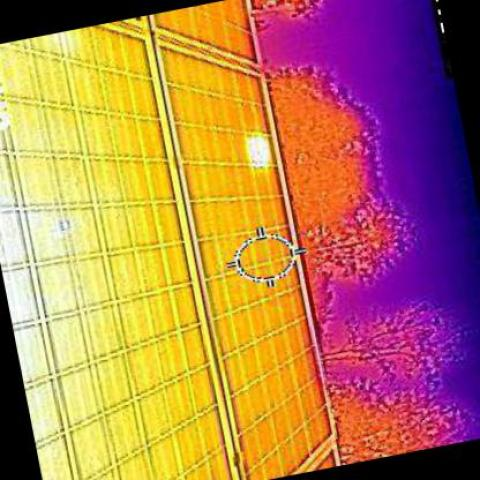fault: (245, 134, 271, 167)
